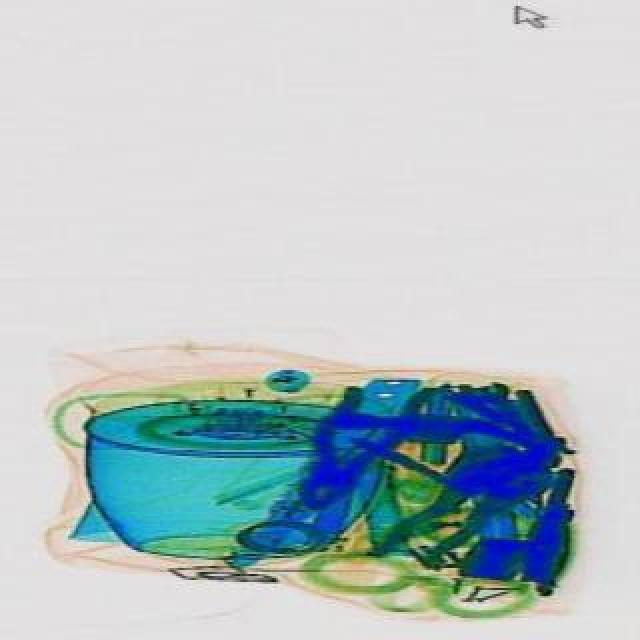wrench: (270, 348, 436, 532)
